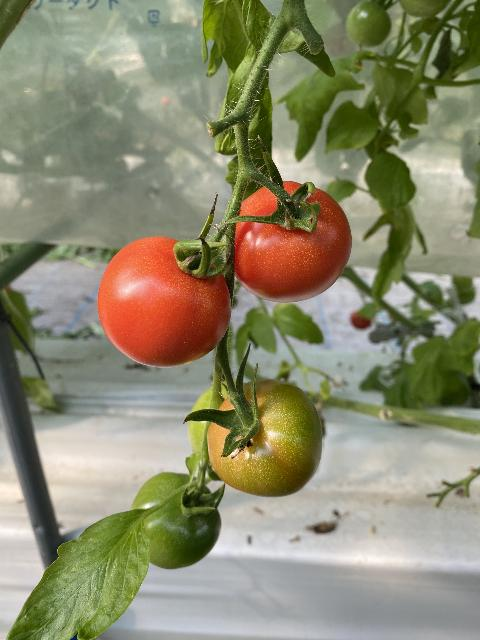l_fully_ripened: (97, 236, 233, 367), (235, 180, 353, 303)
l_green: (125, 472, 222, 569), (188, 381, 244, 464)
l_half_ripened: (206, 378, 323, 498)
